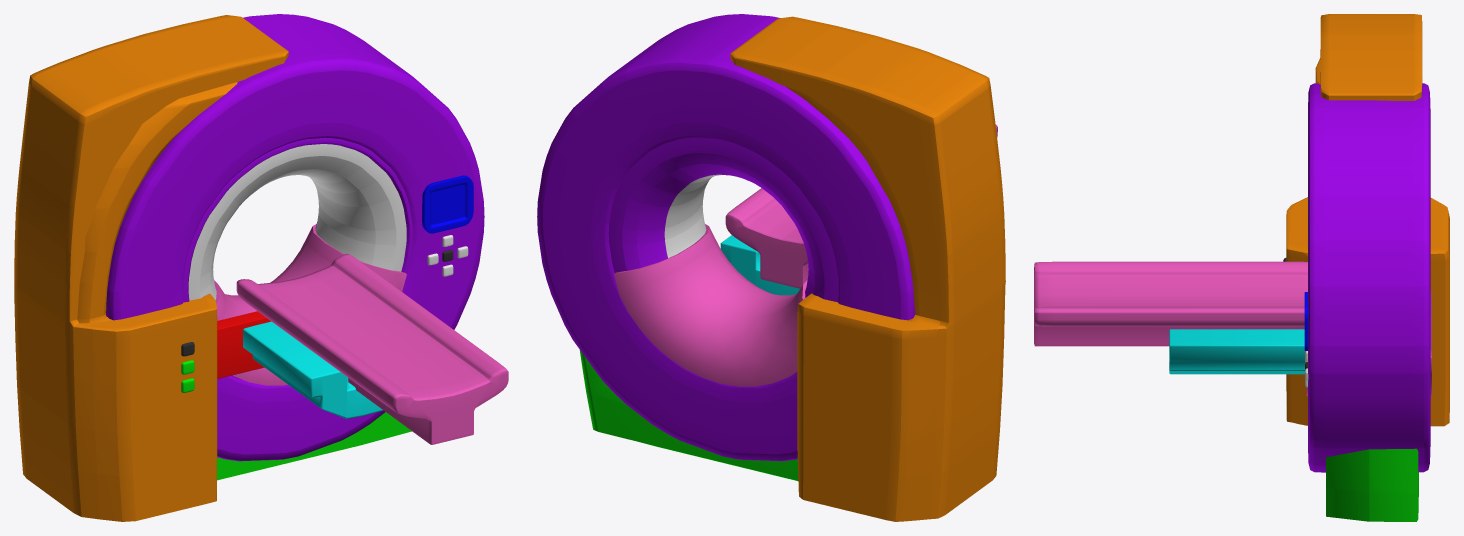
File: MRI_Machine.fbx
3 views of the same model, side by side, from view 1: azimuth 30°, elevation 25°; view 2: azimuth 150°, elevation 25°; view 3: azimuth 270°, elevation 25° (orthographic). The views are drawn at different scales.
Visible parts, largest first — view 1: polySurface211, polySurface209, polySurface223, polySurface222, polySurface220, polySurface210, polySurface224, polySurface221; view 2: polySurface209, polySurface211, polySurface220, polySurface223, polySurface224, polySurface222; view 3: polySurface209, polySurface223, polySurface211, polySurface224, polySurface222.
Part boxes in pixels (box(x1,y1,x2,y2)): polySurface211: box(14, 15, 288, 521); polySurface209: box(106, 14, 484, 461); polySurface223: box(236, 253, 508, 444); polySurface222: box(243, 321, 383, 418); polySurface220: box(214, 224, 406, 385); polySurface210: box(422, 175, 473, 233); polySurface224: box(217, 412, 411, 480); polySurface221: box(217, 311, 271, 378); polySurface209: box(537, 14, 915, 461); polySurface211: box(730, 16, 1005, 521); polySurface220: box(614, 224, 807, 386); polySurface223: box(725, 125, 997, 288); polySurface224: box(579, 350, 798, 480); polySurface222: box(720, 235, 799, 295); polySurface209: box(1308, 83, 1430, 472); polySurface223: box(1034, 261, 1307, 346); polySurface211: box(1286, 14, 1449, 426); polySurface224: box(1326, 448, 1418, 521); polySurface222: box(1169, 329, 1304, 374).
Bounding box in the file's own units: 43.94 × 42.18 × 42.79.
